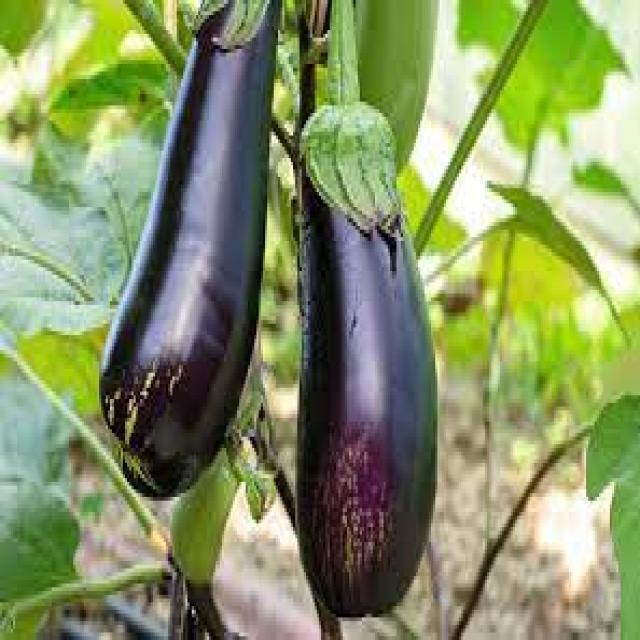Eggplant: (296, 12, 440, 619), (100, 0, 276, 491)
